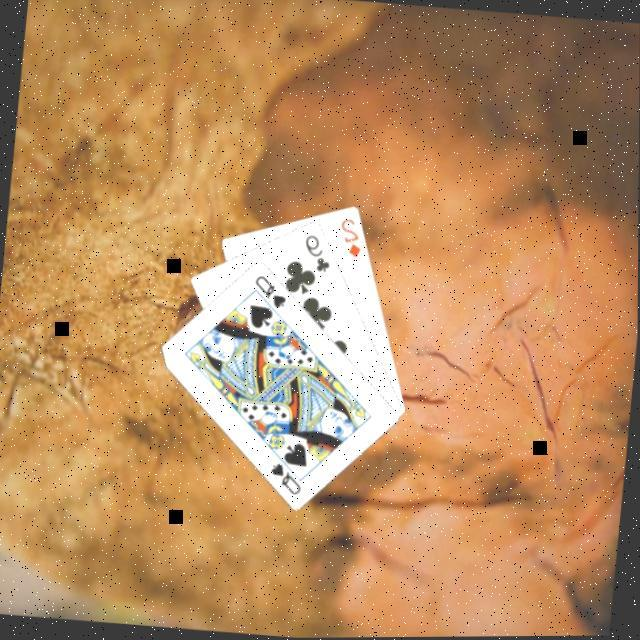2D: (332, 215, 364, 261)
9C: (296, 231, 333, 276)
QS: (247, 271, 289, 312), (264, 459, 305, 499)
